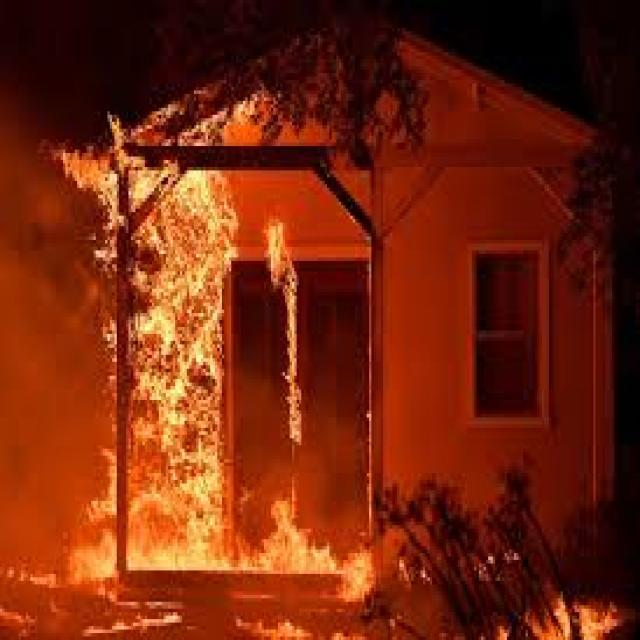Fire: (102, 152, 232, 568)
